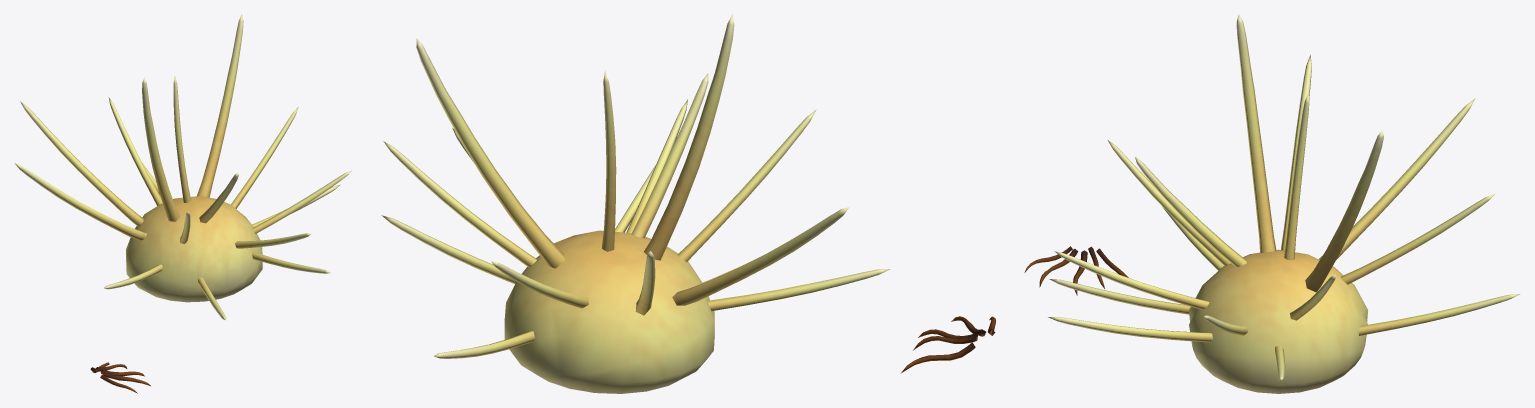
Rendered from Cartoon Seaweed_13-2-43.fbx.
The picture shows the model from 3 angles, left to right: view 1: azimuth 30°, elevation 25°; view 2: azimuth 150°, elevation 25°; view 3: azimuth 270°, elevation 25°; orthographic projection. The views are drawn at different scales.
Visible parts, largest first — view 1: Cartoon Seaweed_13.2.43; view 2: Cartoon Seaweed_13.2.43; view 3: Cartoon Seaweed_13.2.43.
Boxes of the visible parts, x1,y1,x2,y2 form: Cartoon Seaweed_13.2.43: [14, 14, 351, 393]; Cartoon Seaweed_13.2.43: [381, 14, 995, 393]; Cartoon Seaweed_13.2.43: [1024, 14, 1520, 393].
Bounding box in the file's own units: 27.66 × 20.08 × 27.88.
Materials: 1 (1 with a texture image).
